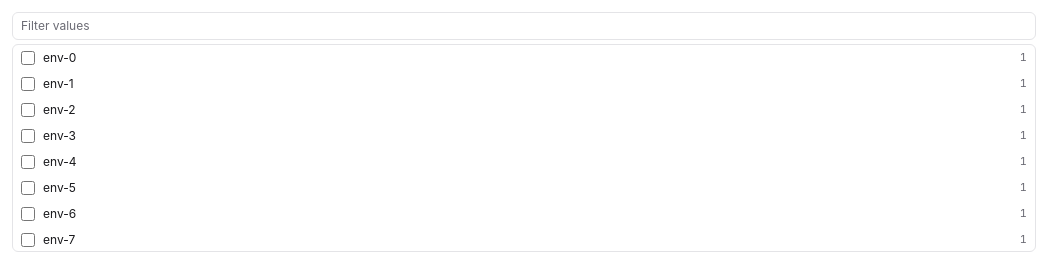
Test: the filter box › appears above eight values and narrows the list
Type "env-1" into the field at (524, 26), box [12,12,1036,40]
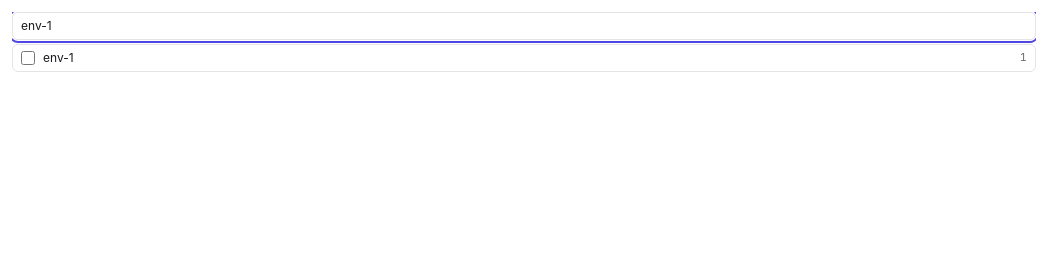
Check: the number of checkboxes is 1, box [21,51,35,65]
